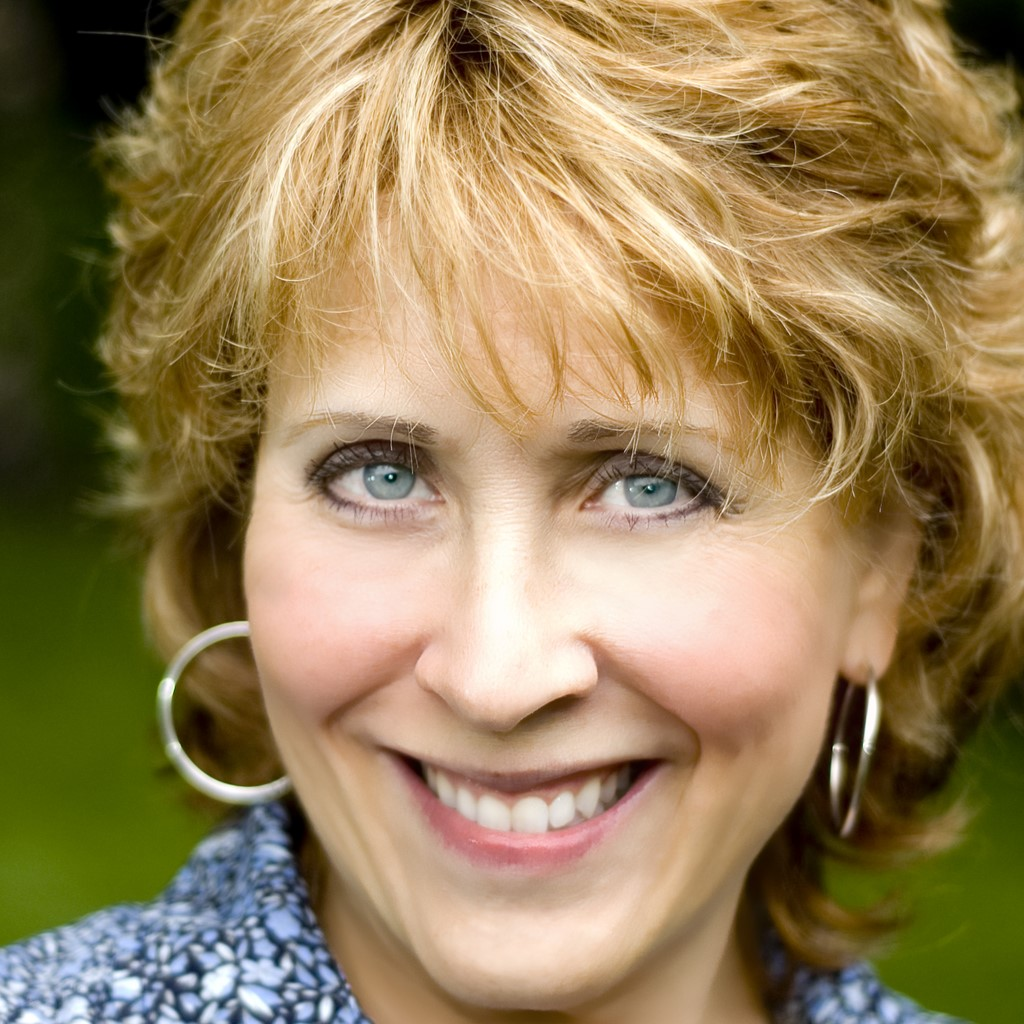sin_mascara: (237, 153, 899, 1007)
